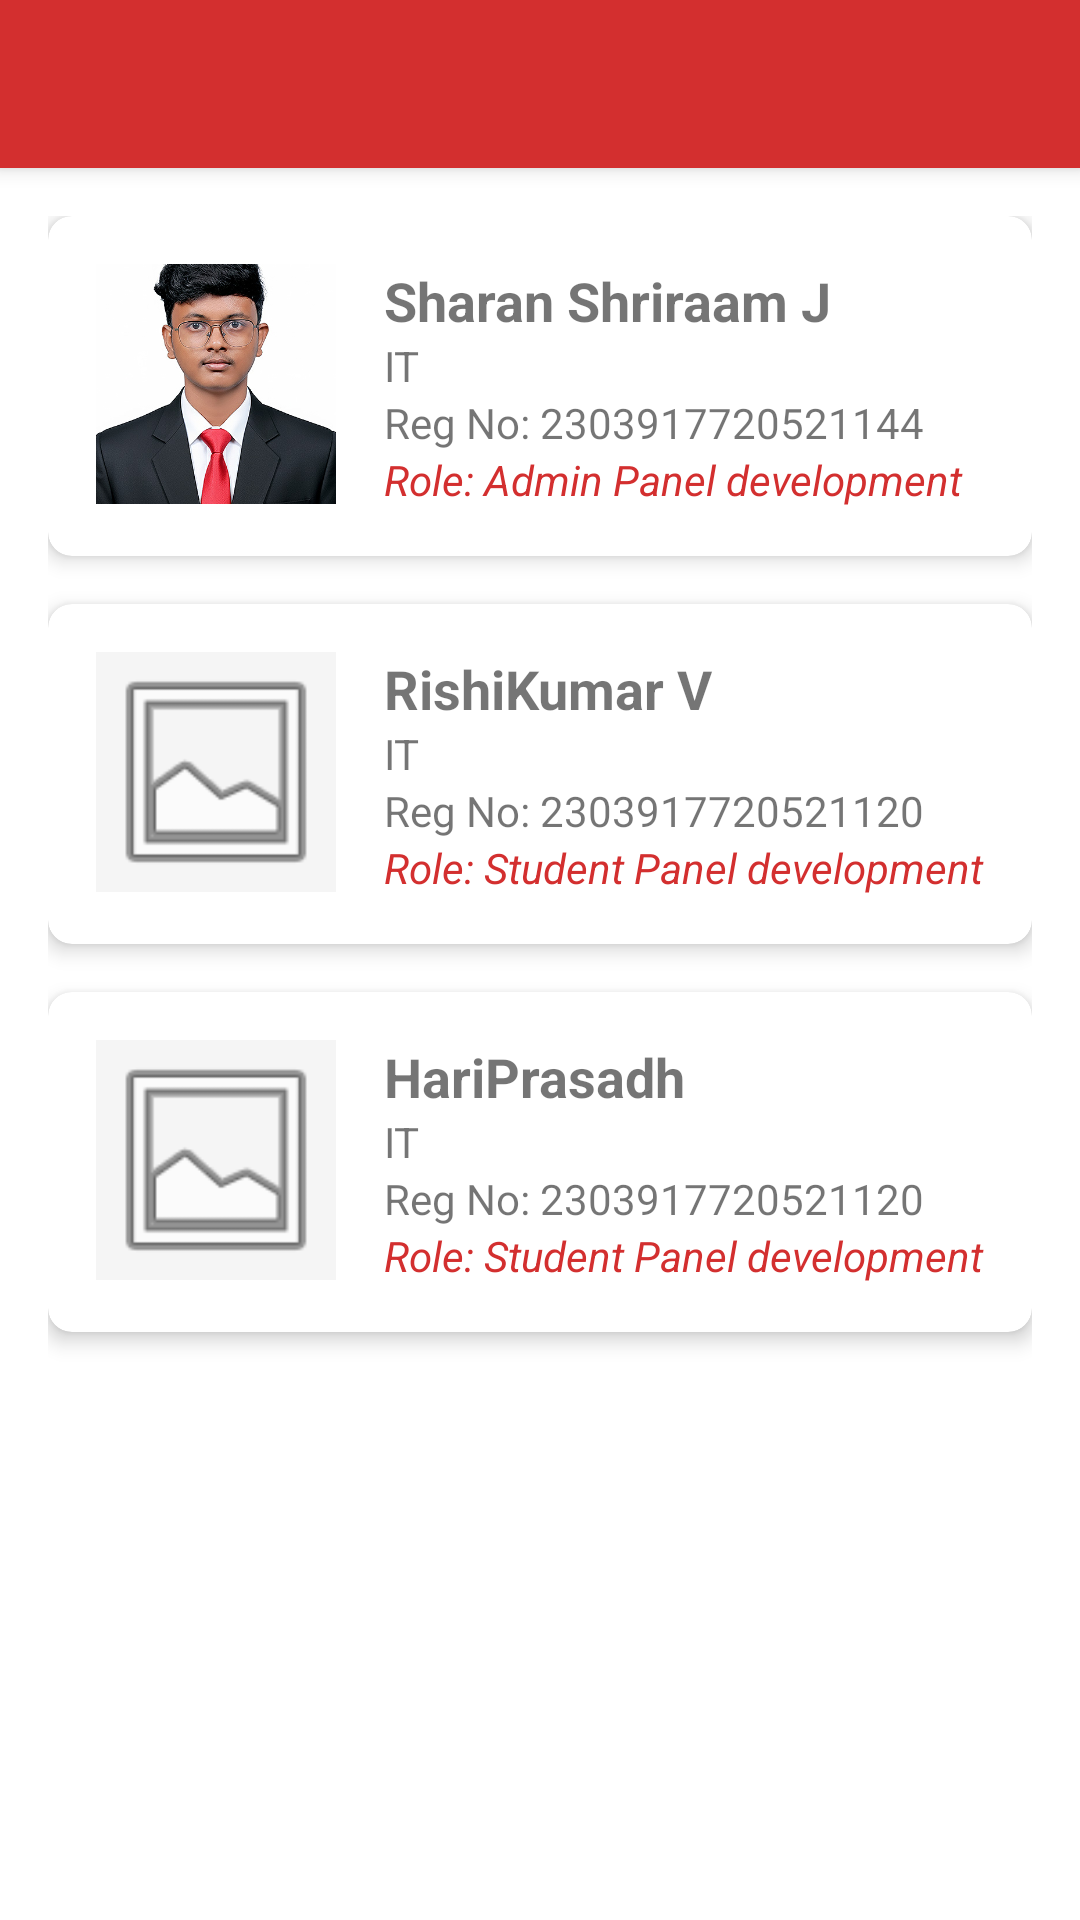

Locate icon controls on the screen. Image size 1080x1920, boxes as (x1, y1, x2, y2).
gallery: (96, 652, 336, 892), (96, 1040, 336, 1280)
photo: (96, 264, 336, 504)
